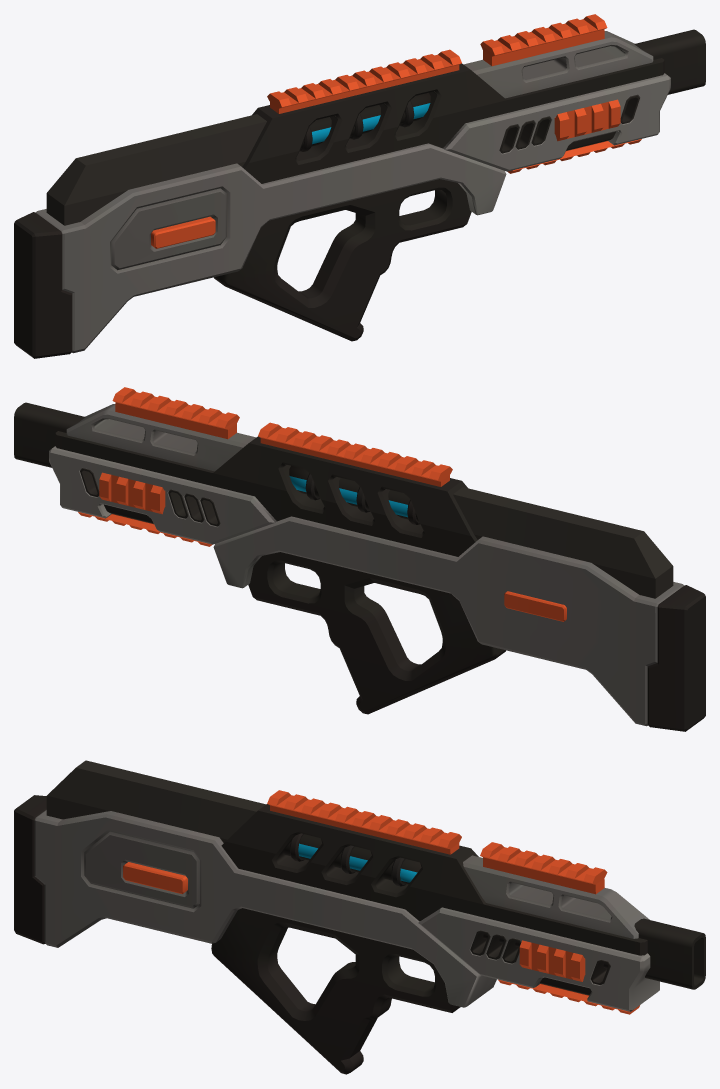
The picture shows the model from 3 angles, top to bottom: view 1: azimuth 30°, elevation 25°; view 2: azimuth 150°, elevation 25°; view 3: azimuth 330°, elevation 25°; orthographic projection.
Visible parts, largest first — view 1: AR4_Base; view 2: AR4_Base; view 3: AR4_Base.
Boxes of the visible parts, x1=… form: AR4_Base: x1=14, y1=14, x2=705, y2=358; AR4_Base: x1=14, y1=387, x2=705, y2=731; AR4_Base: x1=14, y1=760, x2=705, y2=1074.
Bounding box in the file's own units: 67.93 × 24.82 × 7.06.
